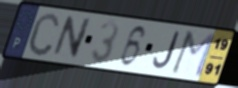3: (89, 18, 121, 66)
6: (119, 24, 147, 68)
C: (26, 11, 61, 58)
J: (151, 30, 182, 71)
M: (168, 30, 217, 80)
N: (50, 15, 94, 61)
